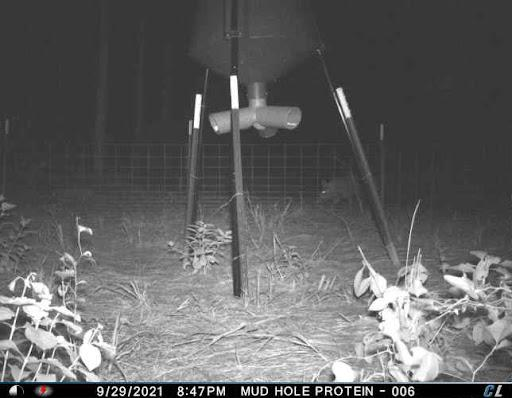Hog: (312, 169, 372, 212)
